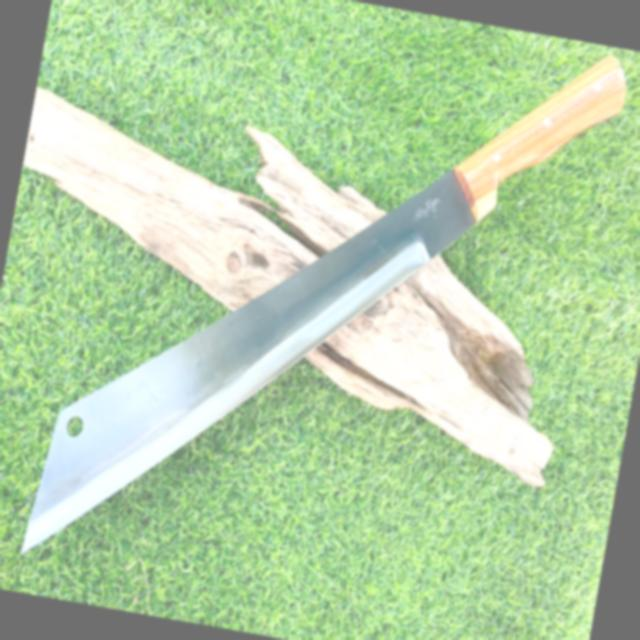eto: (16, 52, 640, 561)
